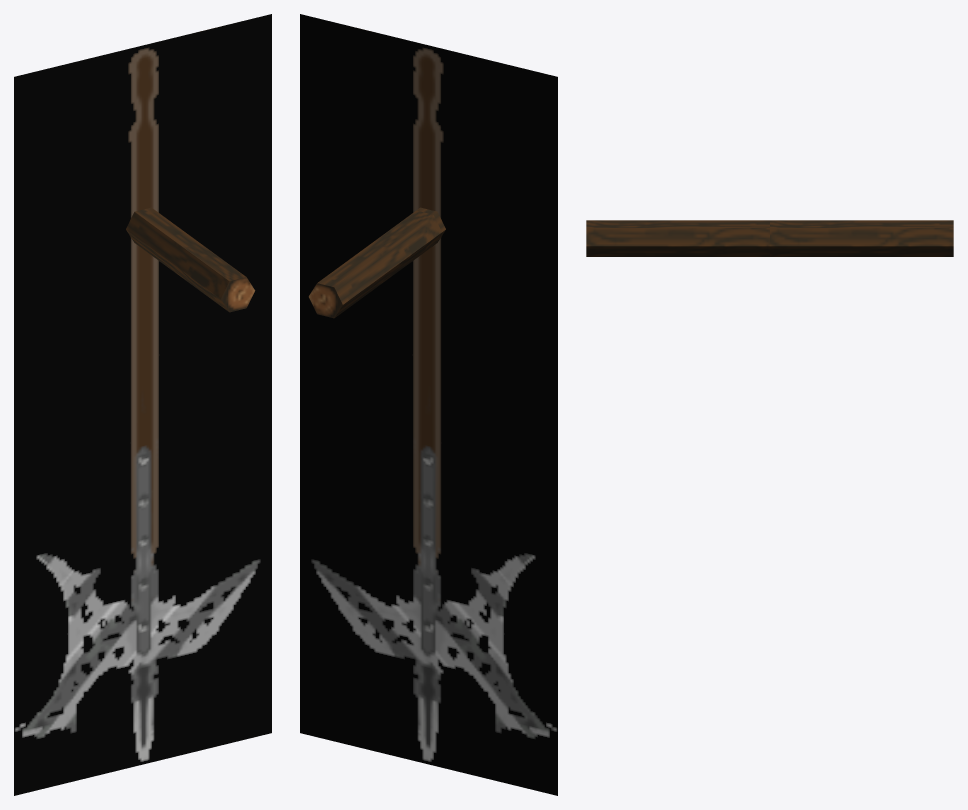
Rendered from HalberdTrap.fbx.
3 renders of one model, left to right at view 1: azimuth 30°, elevation 25°; view 2: azimuth 150°, elevation 25°; view 3: azimuth 270°, elevation 25°, orthographic. The views are drawn at different scales.
Parts seen in each view (by area): view 1: Halberd, TrapPivot; view 2: Halberd, TrapPivot; view 3: TrapPivot (×2).
Part boxes in pixels (x1,y1,x2,y2): Halberd: [14, 14, 271, 795]; TrapPivot: [126, 207, 255, 312]; Halberd: [300, 14, 557, 795]; TrapPivot: [308, 210, 441, 318]; TrapPivot (×2): [586, 220, 953, 256].
Size of the model in its own units: 150 by 400 by 200.
